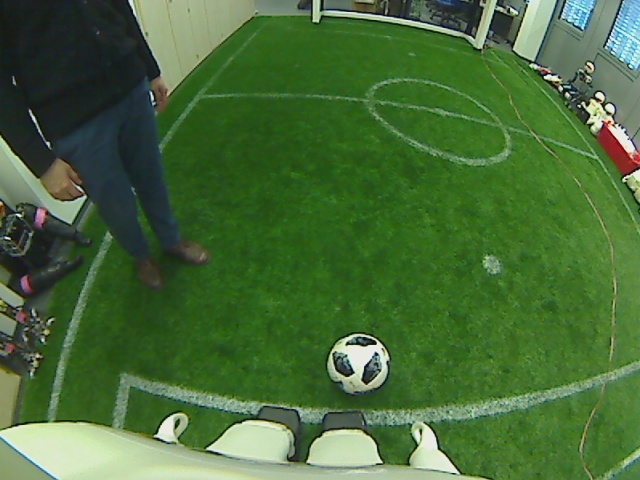ball: (325, 331, 391, 395)
